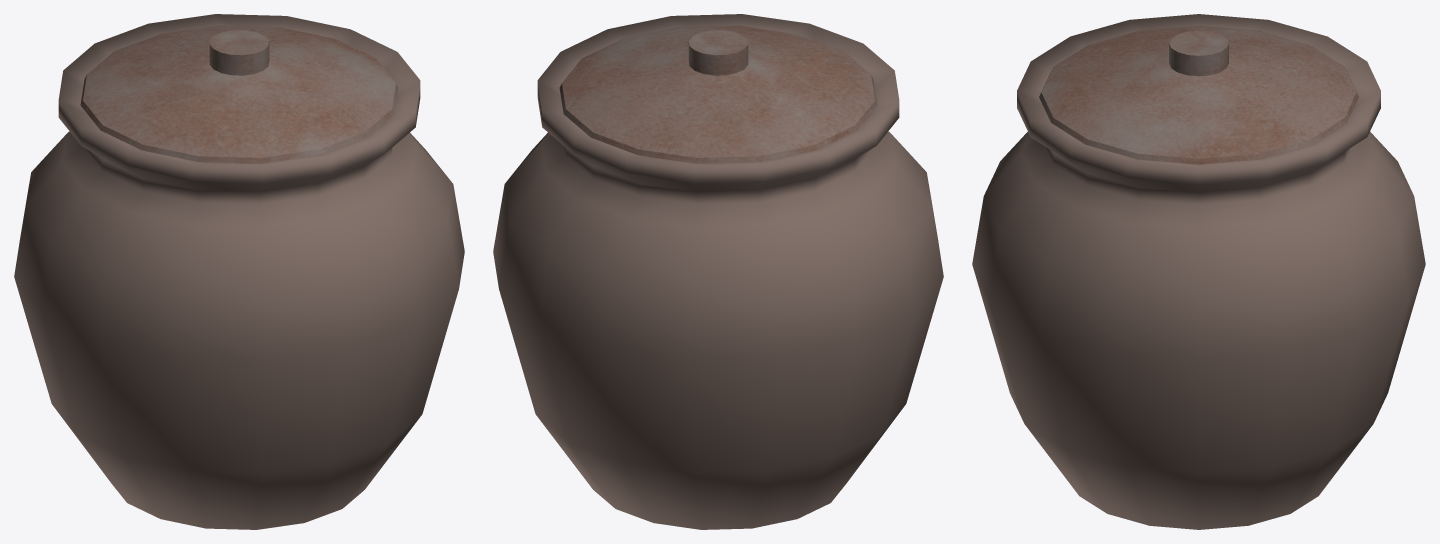
Rendered from Vase.fbx.
3 renders of one model, left to right at view 1: azimuth 30°, elevation 25°; view 2: azimuth 150°, elevation 25°; view 3: azimuth 270°, elevation 25°, orthographic.
Parts seen in each view (by area): view 1: vase_LP_Lid; view 2: vase_LP_Lid; view 3: vase_LP_Lid.
Boxes of the visible parts, x1=… form: vase_LP_Lid: x1=14, y1=14, x2=464, y2=529; vase_LP_Lid: x1=493, y1=14, x2=943, y2=529; vase_LP_Lid: x1=972, y1=14, x2=1425, y2=529.
Bounding box in the file's own units: 107 × 107 × 112.
